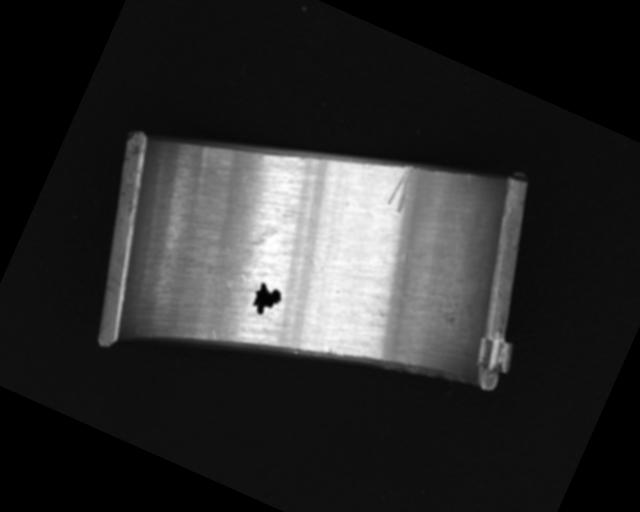blot: (245, 278, 286, 321)
nick: (384, 162, 421, 214), (462, 172, 476, 189)
